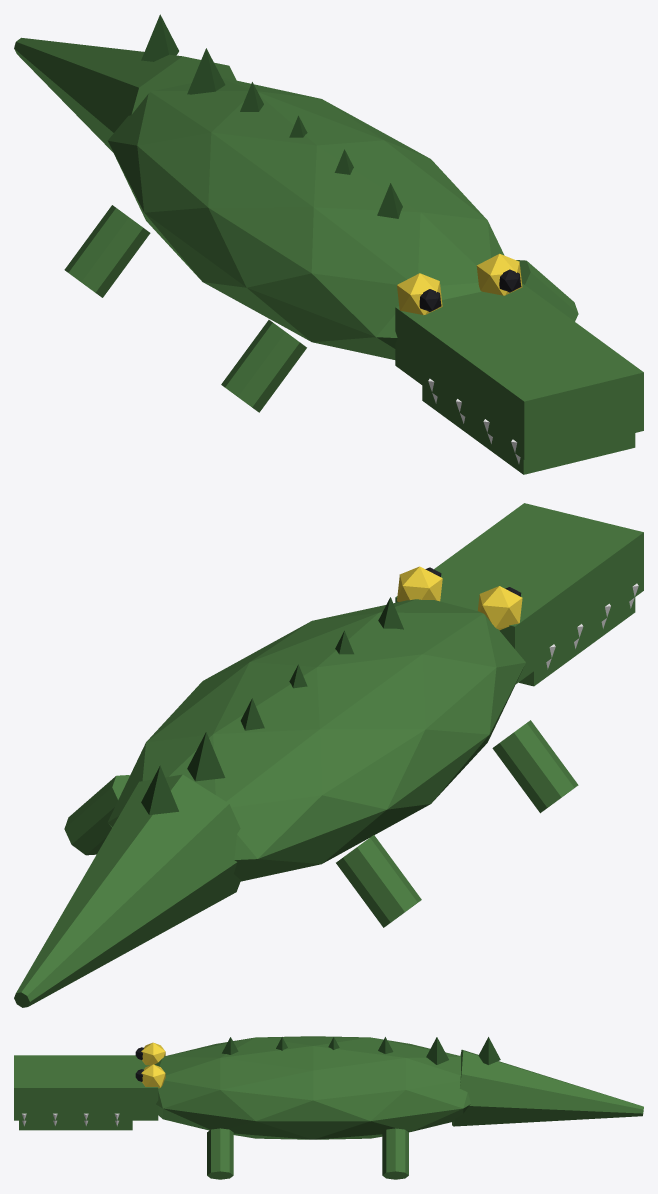
The model's file is Crocodile.fbx.
3 renders of one model, top to bottom at view 1: azimuth 30°, elevation 25°; view 2: azimuth 150°, elevation 25°; view 3: azimuth 270°, elevation 25°, orthographic. The views are drawn at different scales.
Parts seen in each view (by area): view 1: Scales, Ridges, Eyes, Pupils; view 2: Scales, Ridges, Eyes; view 3: Scales, Ridges, Eyes.
Part boxes in pixels (<box>): Scales: <box>14,37,643,474</box>; Ridges: <box>141,14,402,218</box>; Eyes: <box>397,253,522,314</box>; Pupils: <box>419,269,521,311</box>; Scales: <box>14,503,643,1007</box>; Ridges: <box>141,597,403,814</box>; Eyes: <box>397,566,522,630</box>; Scales: <box>14,1036,643,1179</box>; Ridges: <box>222,1037,500,1064</box>; Eyes: <box>141,1042,165,1088</box>.
Size of the model in its own units: 2.19 by 1.11 by 6.11.
